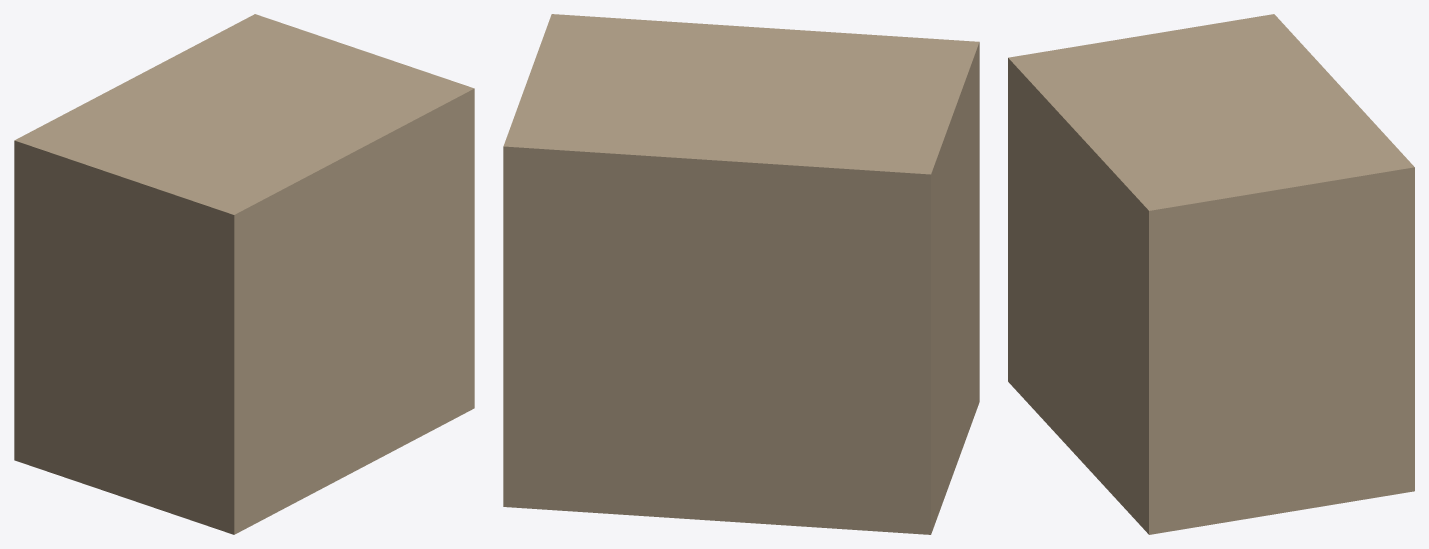
File: bld_106306639.dae
The picture shows the model from 3 angles, left to right: view 1: azimuth 30°, elevation 25°; view 2: azimuth 150°, elevation 25°; view 3: azimuth 270°, elevation 25°; orthographic projection. The views are drawn at different scales.
Visible parts, largest first — view 1: bld_106306639; view 2: bld_106306639; view 3: bld_106306639.
Boxes of the visible parts, <box> form: bld_106306639: <box>14,14,474,534</box>; bld_106306639: <box>503,14,979,534</box>; bld_106306639: <box>1008,14,1414,534</box>.
Size of the model in its own units: 10.43 by 9.1 by 8.
